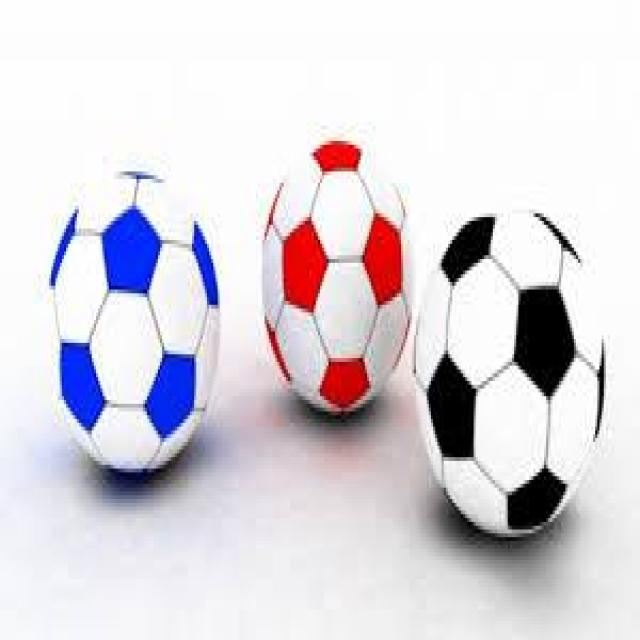Soccer Ball: (420, 210, 606, 548), (45, 160, 220, 488), (260, 141, 412, 423)
